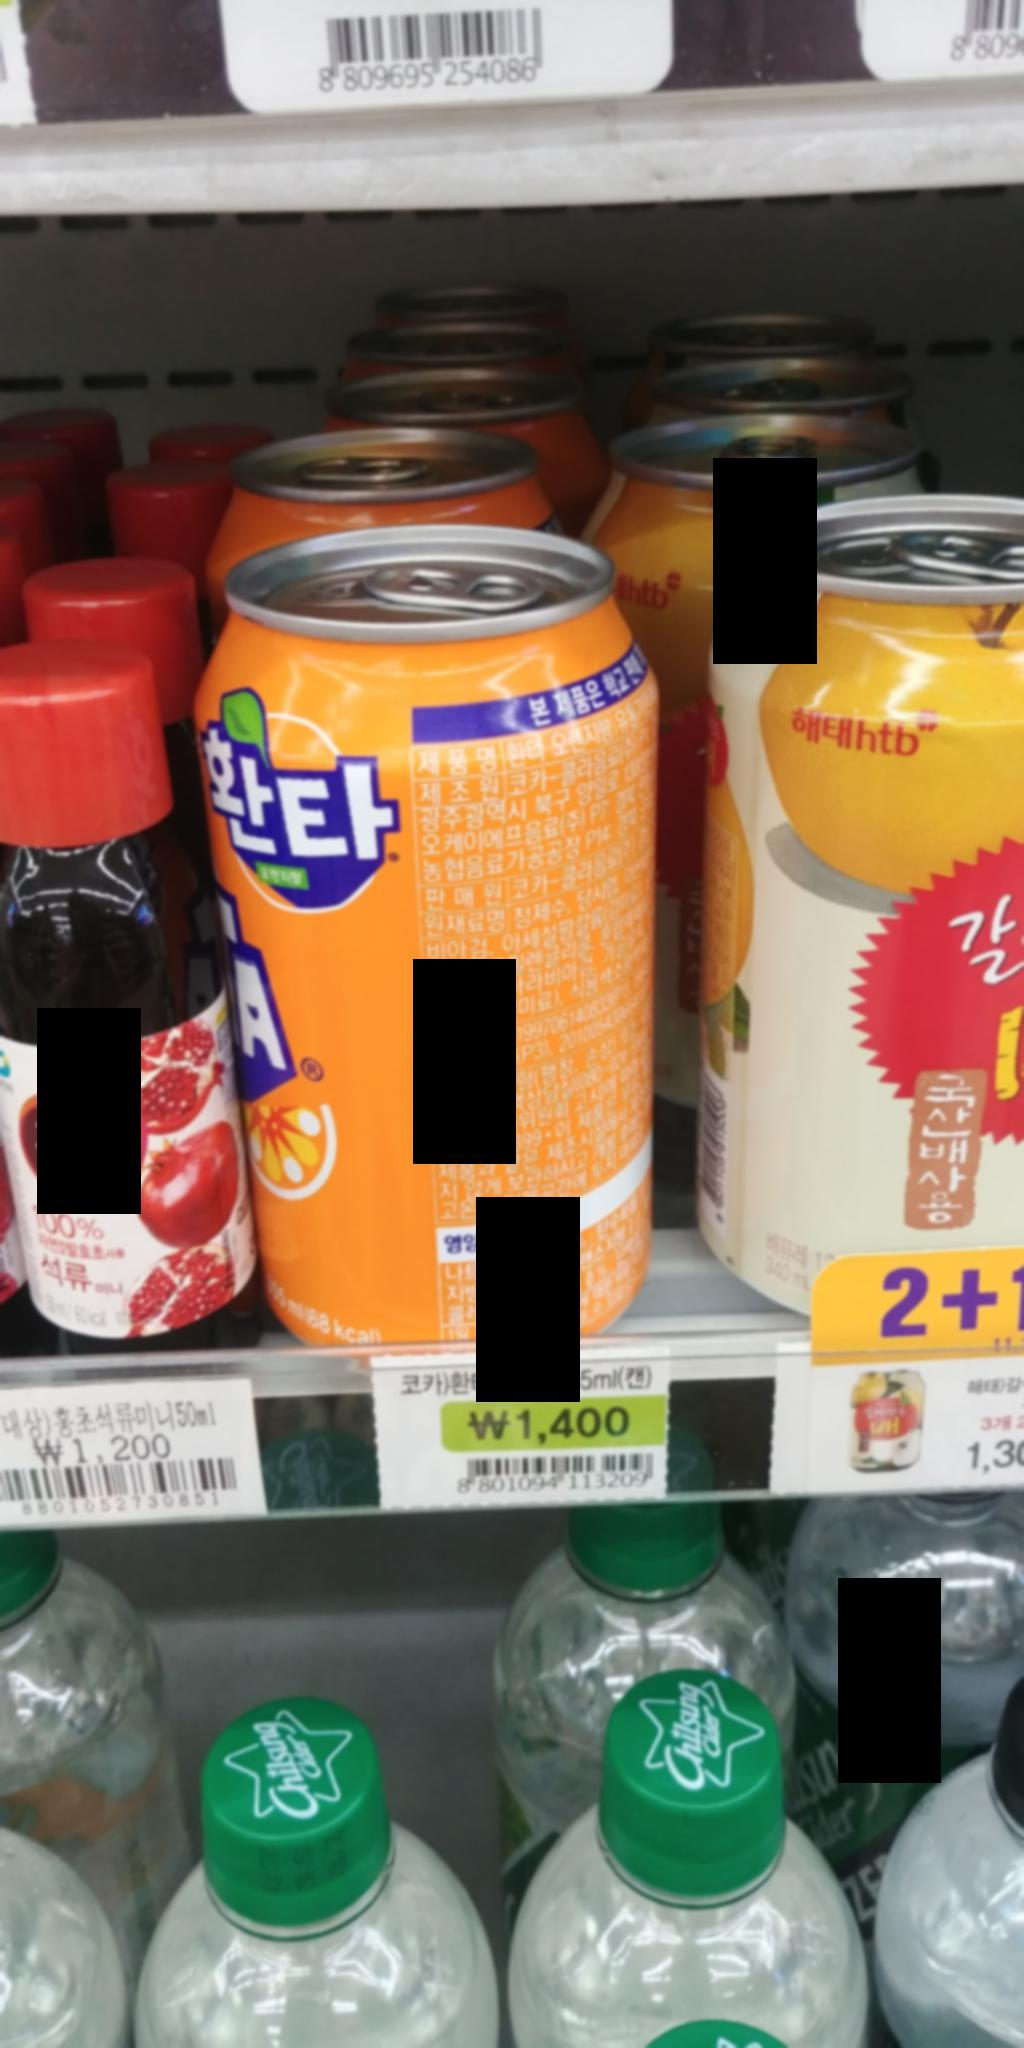fanta_orange: (183, 516, 671, 1348)
